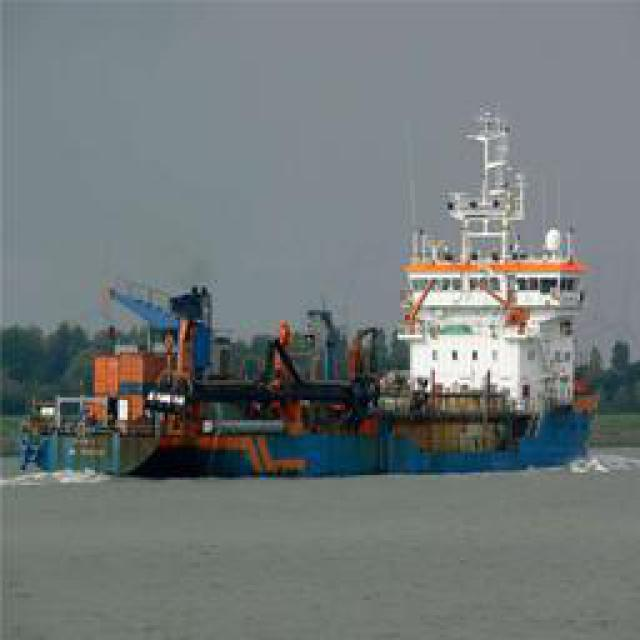Ship: (16, 101, 603, 497)
